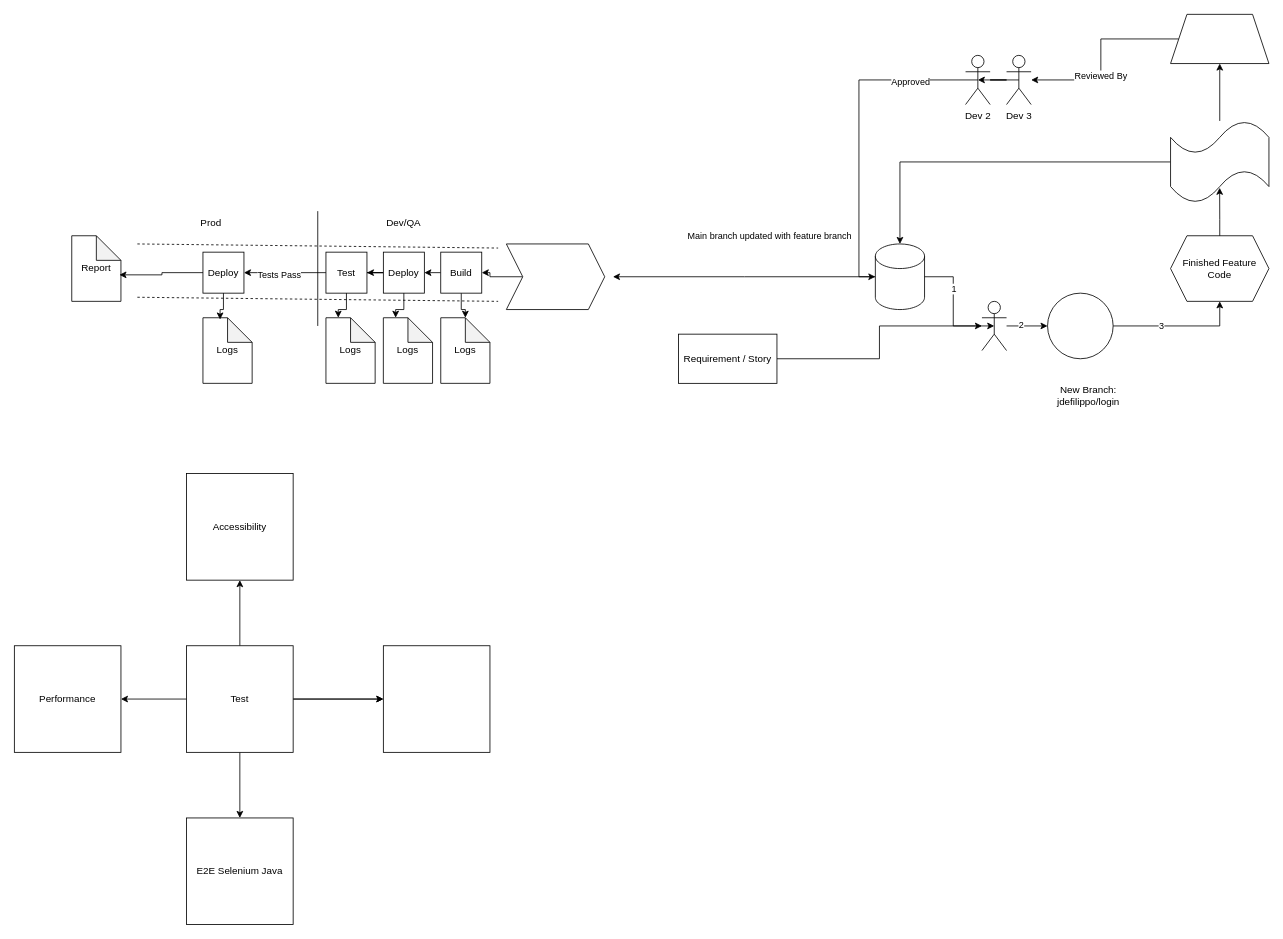
This 1283x939 diagram has some shape labels left out. The shapes that lost their labels are listed below. From the top down, each one's centre as x and y in pixels, then its label:
At (x=1219, y=39): "Dev Pull Request take my branch and insert it into Main".
At (x=1219, y=161): "Push feature branch to server".
At (x=555, y=276): "Jenkins CI/CD Automation server".
At (x=900, y=276): "Github".
At (x=994, y=326): "Dev".
At (x=1080, y=325): "Create new branch for the feature".
At (x=436, y=698): "Integration / API - Karate, Playwright, Cypress".
